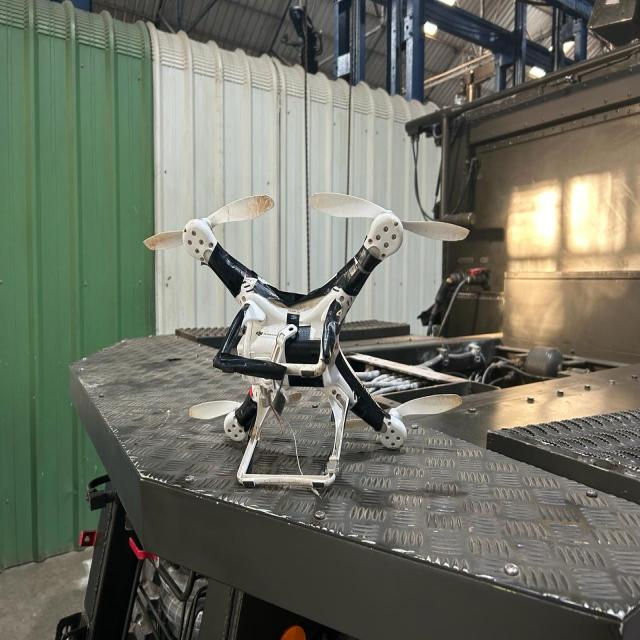drone: (148, 152, 499, 543)
